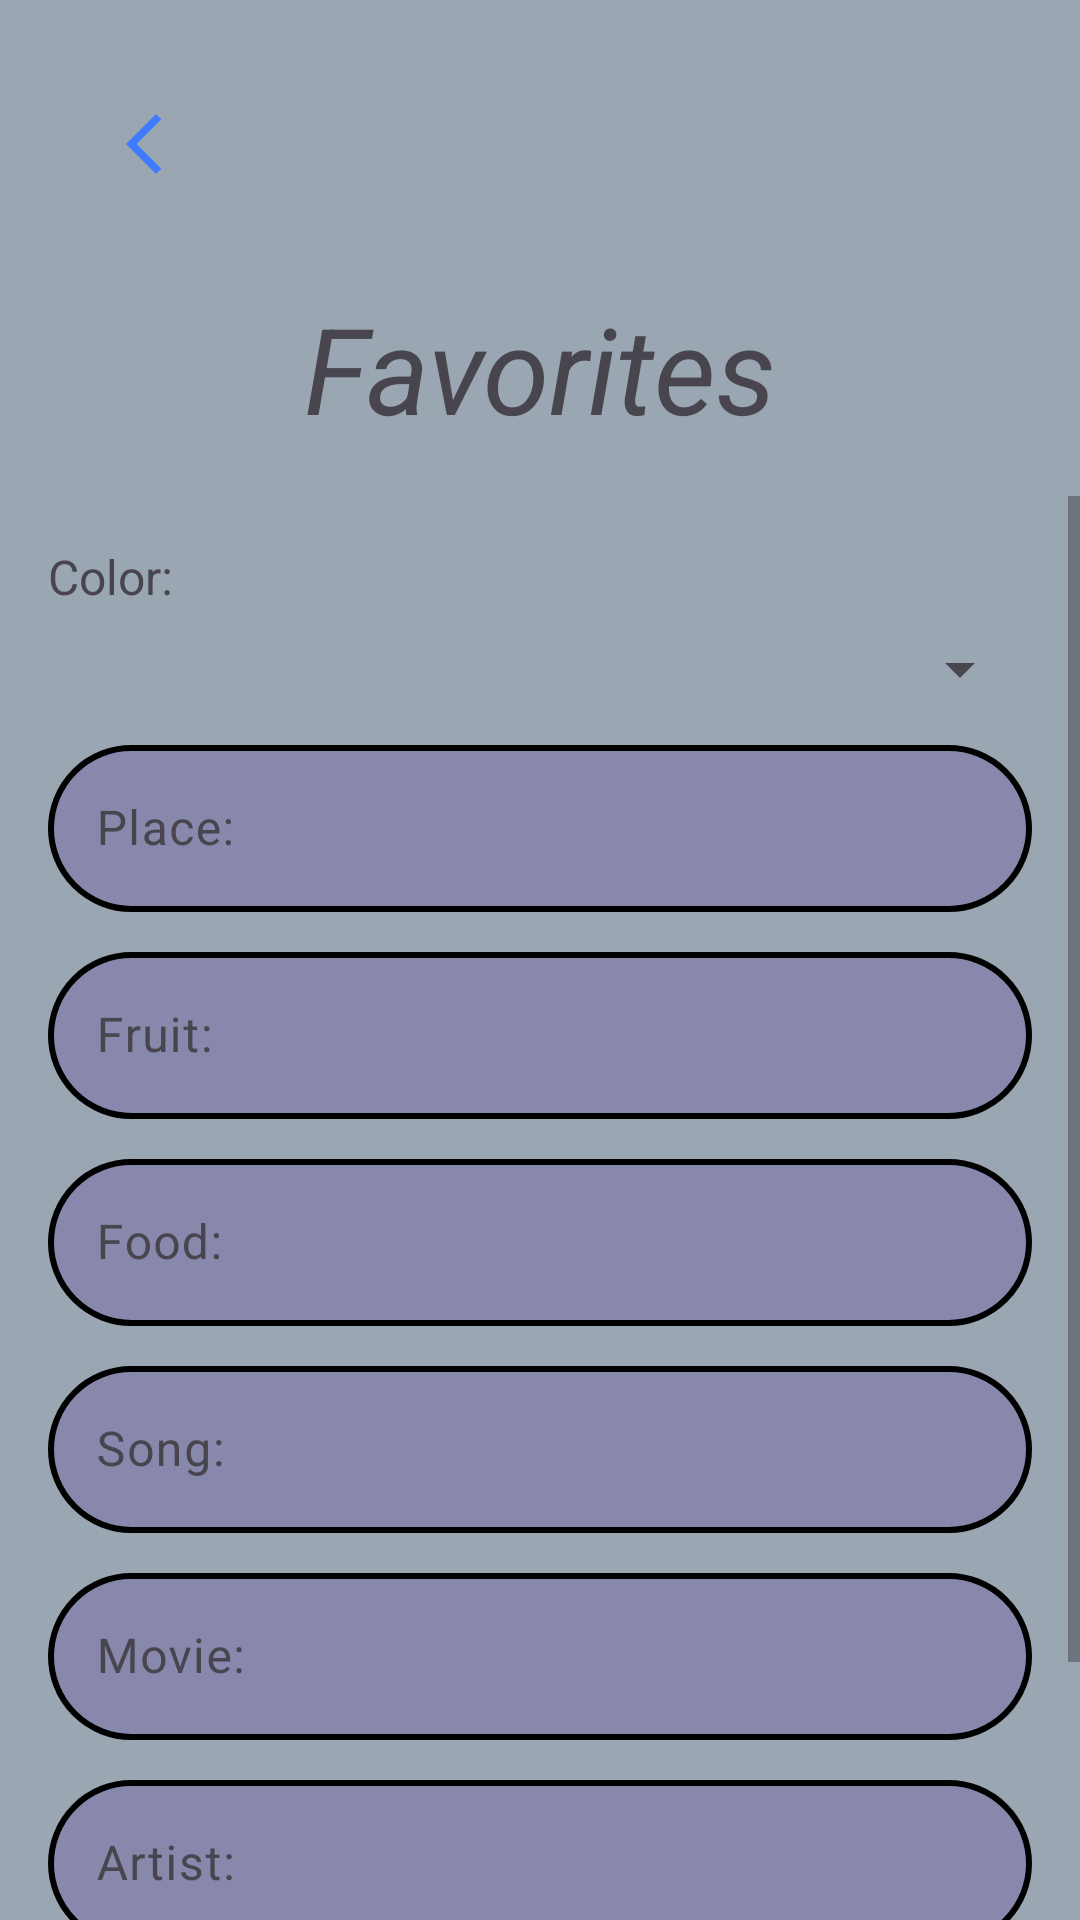

Screen size 1080×1920. Icon name, then its box in pixels as (x1, y1, x2, y2):
Back button: (126, 114, 161, 174)
